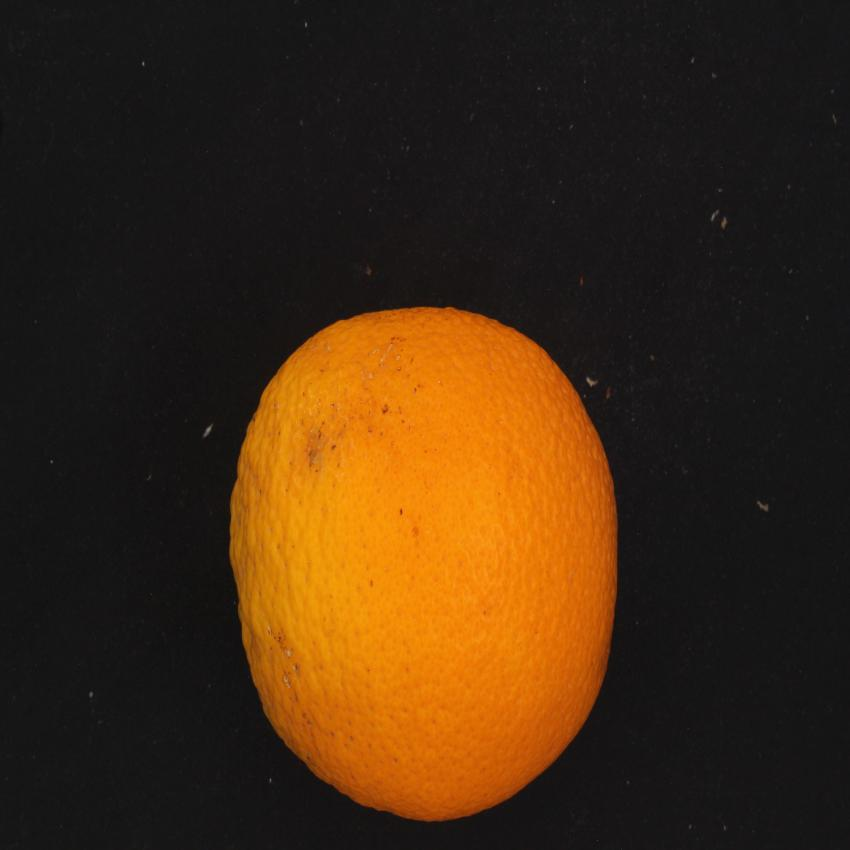Mal estado: (222, 285, 635, 834)
